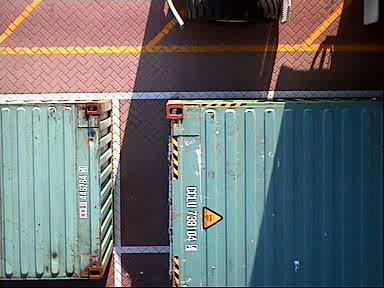groundmarker_2: (167, 1, 227, 73)
